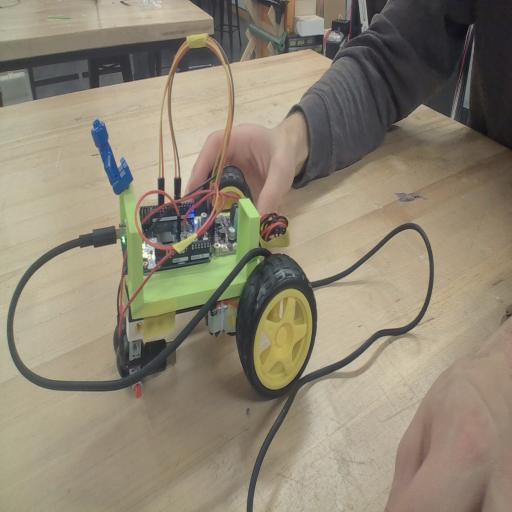blue LEGO minifig: (94, 116, 132, 198)
